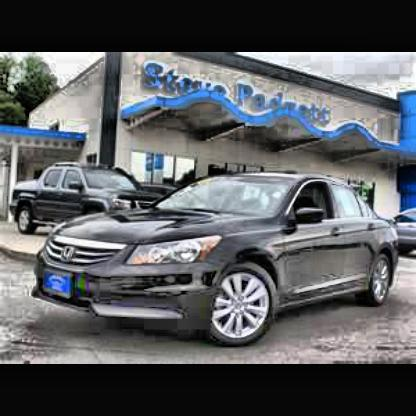Honda Accord Sedan 2012: (28, 176, 402, 346)
